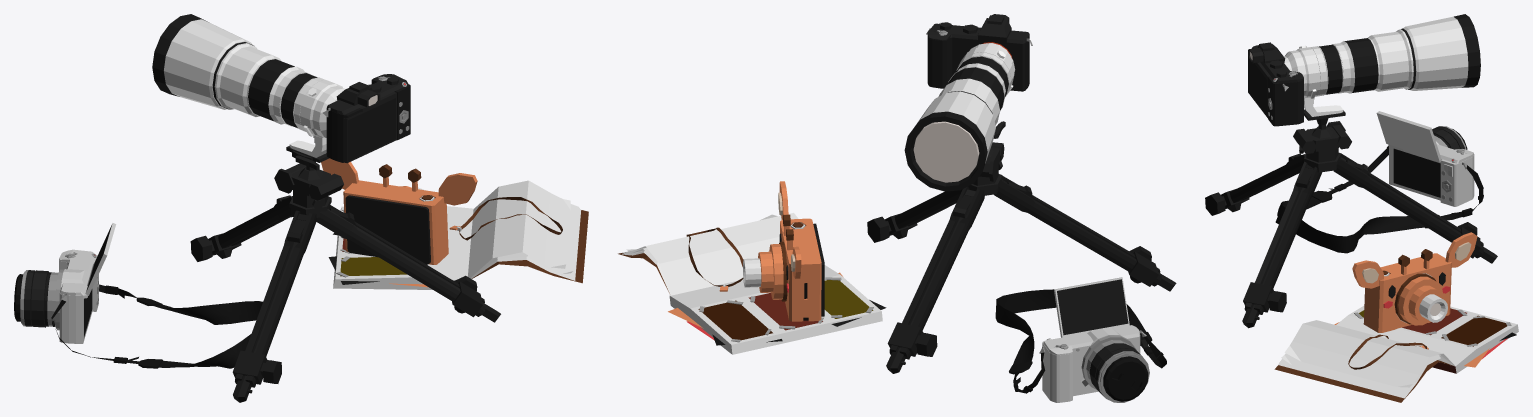
The model's file is scene.gltf.glb.
3 renders of one model, left to right at view 1: azimuth 30°, elevation 25°; view 2: azimuth 150°, elevation 25°; view 3: azimuth 270°, elevation 25°, orthographic. The views are drawn at different scales.
Parts seen in each view (by area): view 1: Sheet5, Base_lens.012, Album, Screen.002, Strap, Cube.026, Kids_camera, Screen.001, Base_lens.010, Cube.019, New_camera, Special_cam (+20 smaller); view 2: Album, Sheet5, Base_lens.012, Screen, Base_lens.002, Kids_camera, Strap, Special_cam, Cube.018, New_camera, Cube.022, Lens_cup (+15 smaller); view 3: Sheet5, Base_lens.012, Album, New_camera, Kids_camera, Strap, Base_lens.010, Cube.021, Screen, Special_cam, Cube.027, Base_lens.009 (+29 smaller).
Part boxes in pixels (<box>): Sheet5: <box>467,180,570,277</box>; Base_lens.012: <box>152,14,252,109</box>; Album: <box>333,206,473,289</box>; Screen.002: <box>345,195,430,264</box>; Strap: <box>51,284,262,368</box>; Cube.026: <box>316,209,485,316</box>; Kids_camera: <box>343,180,448,264</box>; Screen.001: <box>343,92,396,163</box>; Base_lens.010: <box>214,43,280,116</box>; Cube.019: <box>245,213,316,387</box>; New_camera: <box>59,255,98,343</box>; Special_cam: <box>326,81,410,162</box>; Album: <box>669,265,882,354</box>; Sheet5: <box>626,213,798,295</box>; Base_lens.012: <box>904,91,995,191</box>; Screen: <box>1054,277,1129,337</box>; Base_lens.002: <box>913,121,979,182</box>; Kids_camera: <box>780,218,821,321</box>; Strap: <box>995,289,1166,393</box>; Special_cam: <box>927,33,1029,91</box>; Cube.018: <box>994,181,1161,286</box>; New_camera: <box>1042,335,1140,402</box>; Cube.022: <box>899,189,984,359</box>; Lens_cup: <box>1103,356,1148,401</box>; Sheet5: <box>1284,320,1454,387</box>; Base_lens.012: <box>1402,14,1480,90</box>; Album: <box>1336,306,1518,373</box>; New_camera: <box>1388,144,1474,206</box>; Kids_camera: <box>1363,253,1451,332</box>; Strap: <box>1275,148,1483,253</box>; Base_lens.010: <box>1367,29,1413,91</box>; Cube.021: <box>1333,159,1483,258</box>; Screen: <box>1376,111,1441,162</box>; Special_cam: <box>1268,76,1303,126</box>; Cube.027: <box>1254,167,1322,314</box>; Base_lens.009: <box>1344,38,1378,93</box>.
Size of the model in its own units: 1.42 by 0.6492 by 0.7879.
